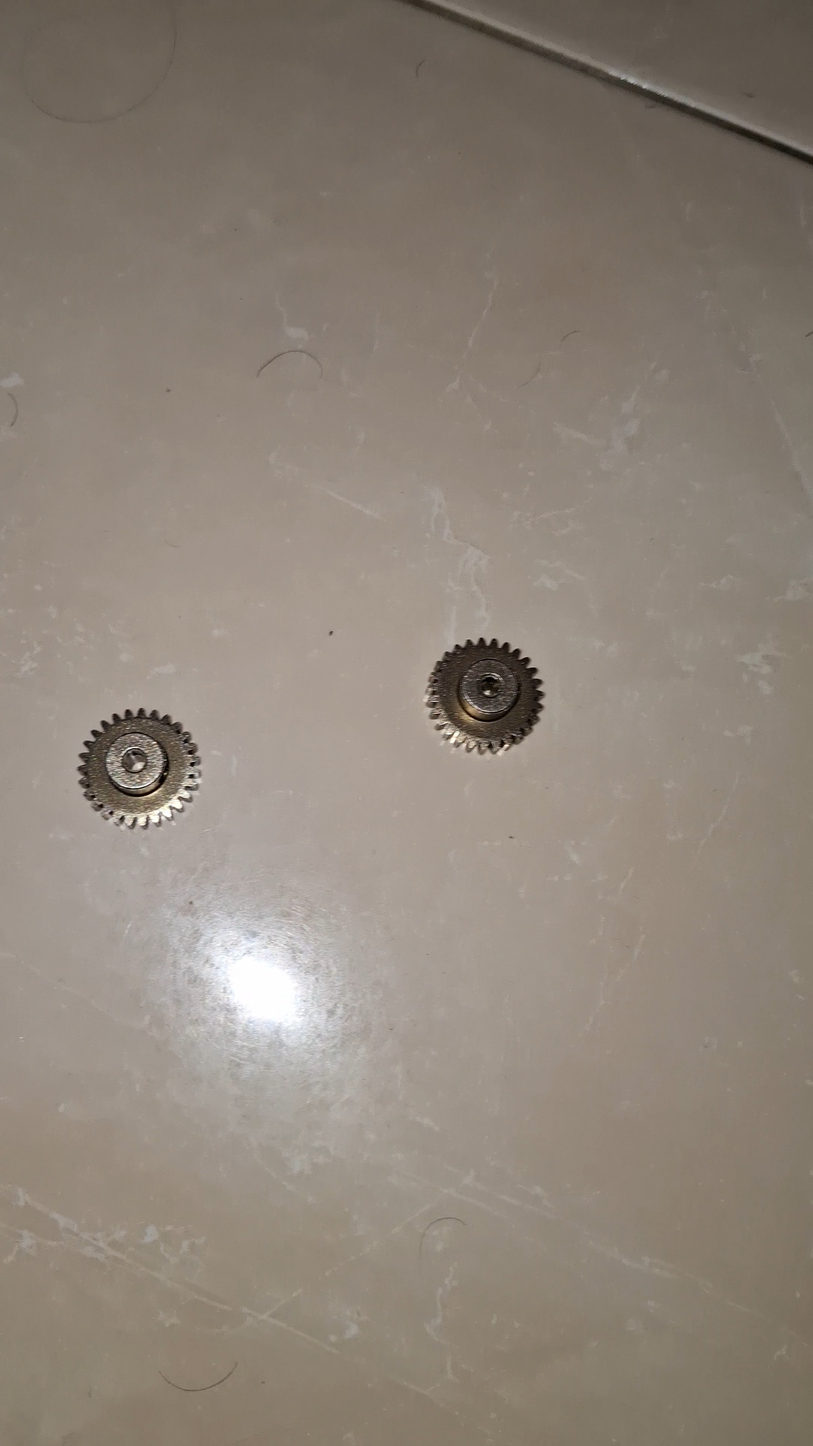spur gear: (79, 709, 199, 828), (425, 639, 542, 752)
